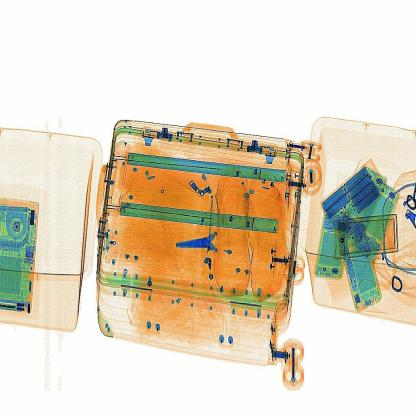gun: (175, 214, 238, 269)
